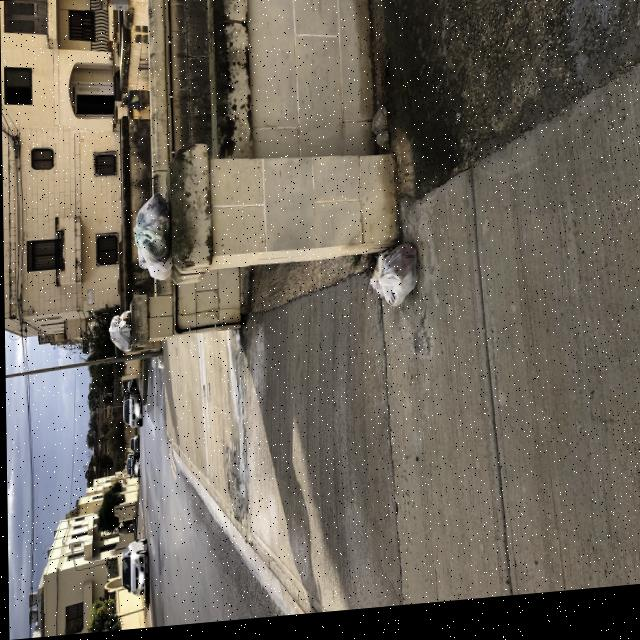Organic Waste -White Bag-: (127, 195, 175, 289), (380, 248, 422, 316), (105, 310, 134, 358), (370, 262, 384, 301)
